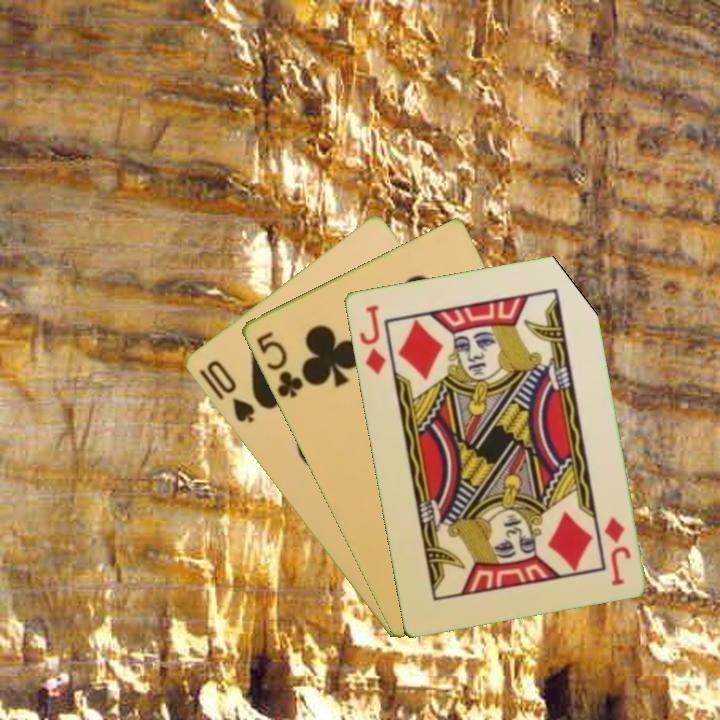10s: (202, 356, 258, 427)
5c: (252, 327, 306, 401)
Jd: (600, 512, 634, 589), (355, 301, 388, 378)
